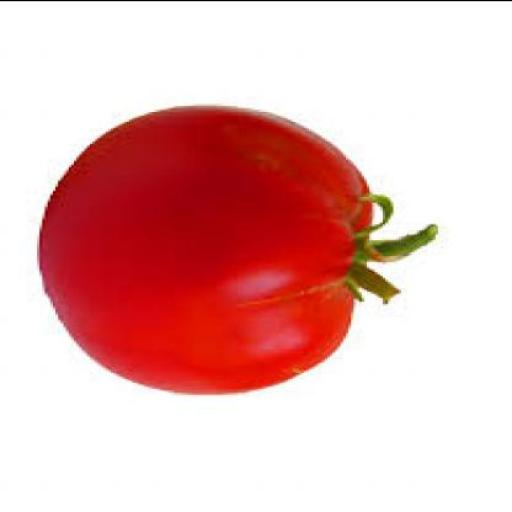biodegradable: (40, 101, 424, 394)
